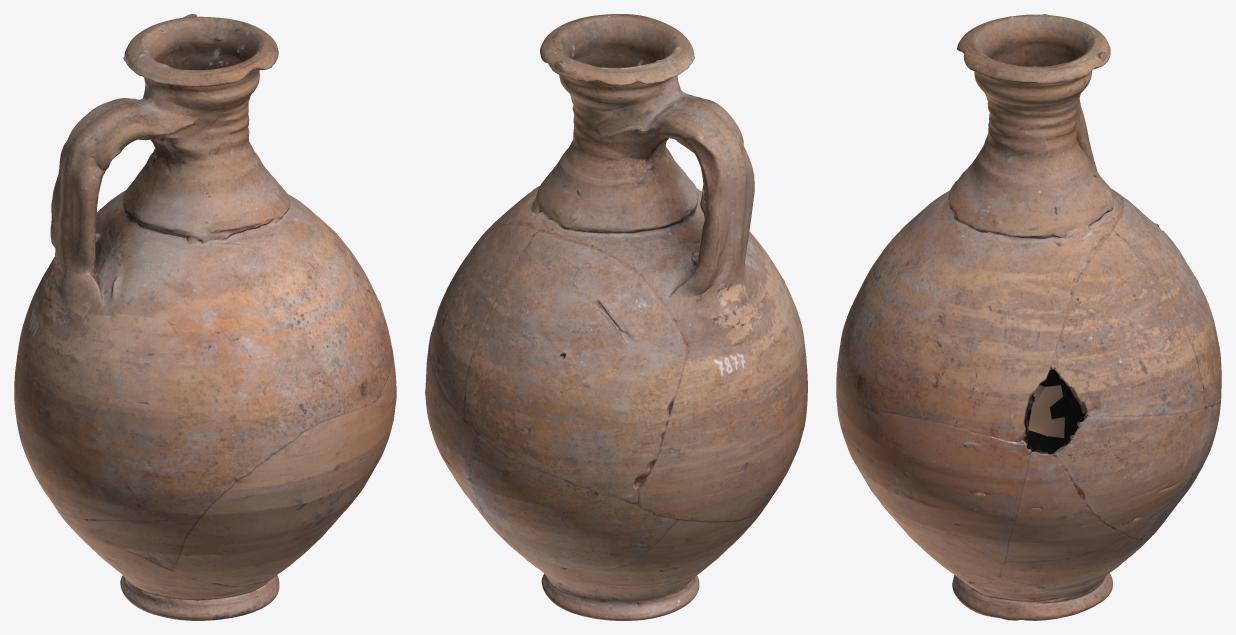
Rendered from jug1k.glb.
3 views of the same model, side by side, from view 1: azimuth 30°, elevation 25°; view 2: azimuth 150°, elevation 25°; view 3: azimuth 270°, elevation 25° (orthographic).
Parts seen in each view (by area): view 1: Object_3, Object_4, Object_2; view 2: Object_3, Object_2, Object_4; view 3: Object_2, Object_3, Object_4.
Part boxes in pixels (x1,y1,x2,y2): Object_3: (14, 190, 396, 620); Object_4: (51, 15, 396, 619); Object_2: (50, 14, 385, 570); Object_3: (428, 189, 807, 620); Object_2: (425, 14, 765, 620); Object_4: (528, 25, 754, 268); Object_2: (901, 14, 1221, 620); Object_3: (836, 162, 1221, 620); Object_4: (836, 14, 1124, 620).
Bounding box in the file's own units: 0.1514 × 0.2385 × 0.1511.
1 material, 1 textured.
